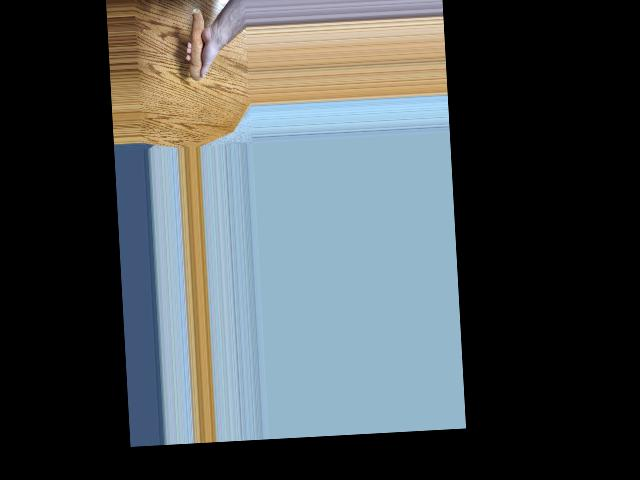sweet_potato: (184, 5, 213, 81)
